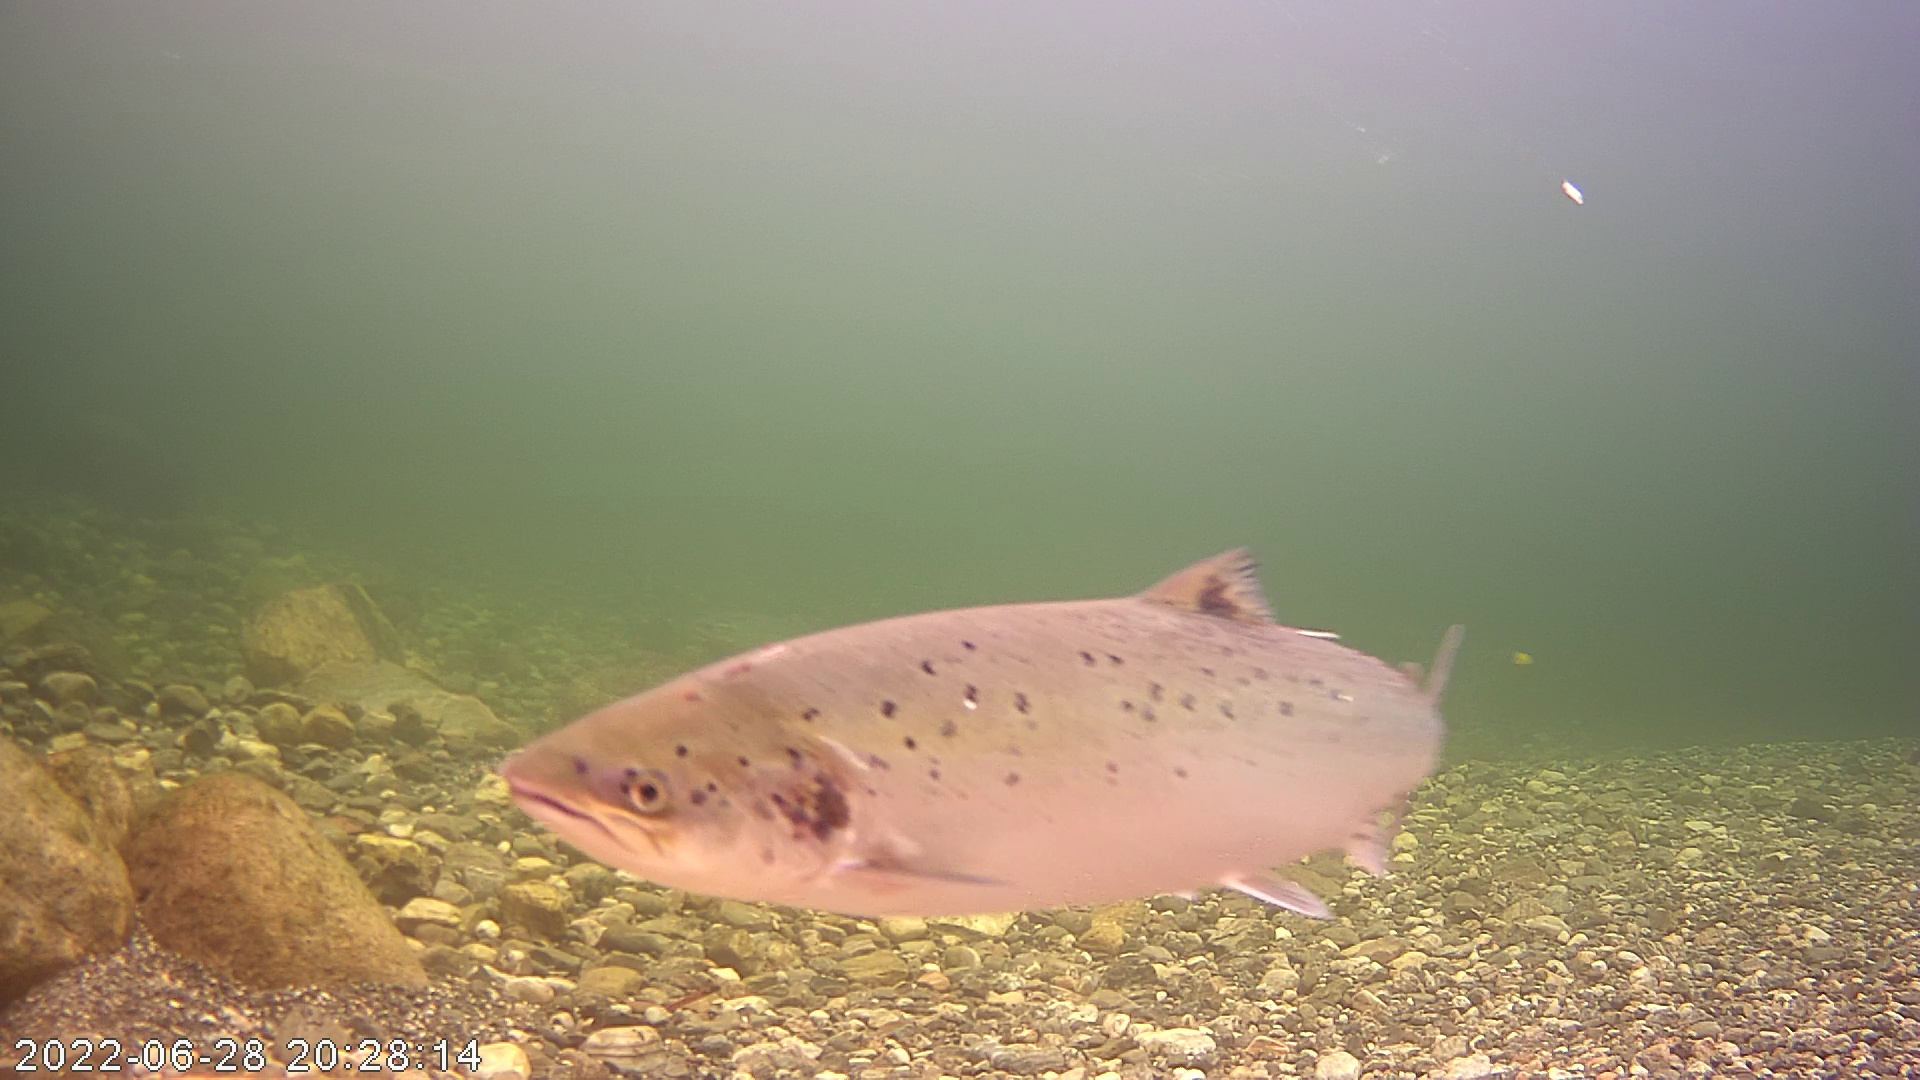salmon: (495, 505, 1484, 913)
